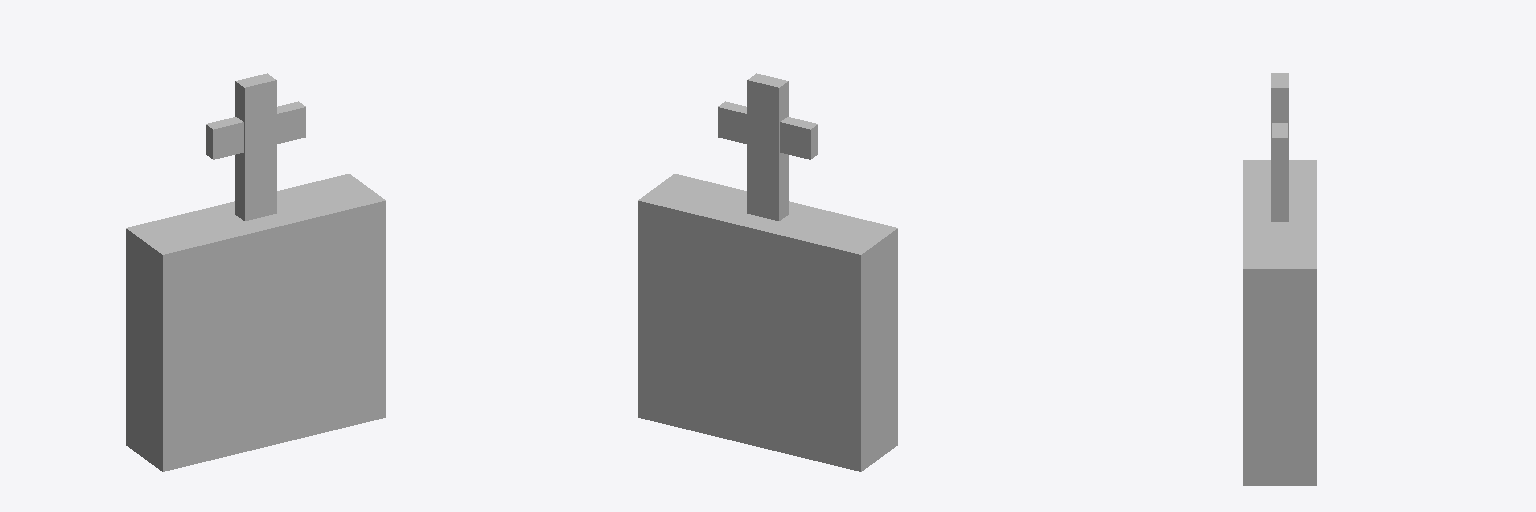
File: rua_tumba2.obj
3 renders of one model, left to right at view 1: azimuth 30°, elevation 25°; view 2: azimuth 150°, elevation 25°; view 3: azimuth 270°, elevation 25°, orthographic.
Visible parts, largest first — view 1: bb_main; view 2: bb_main; view 3: bb_main.
Part boxes in pixels (x1,y1,x2,y2): bb_main: (126,73,385,471); bb_main: (638,73,897,471); bb_main: (1243,73,1316,485).
Bounding box in the file's own units: 0.875 × 1.31 × 0.25.